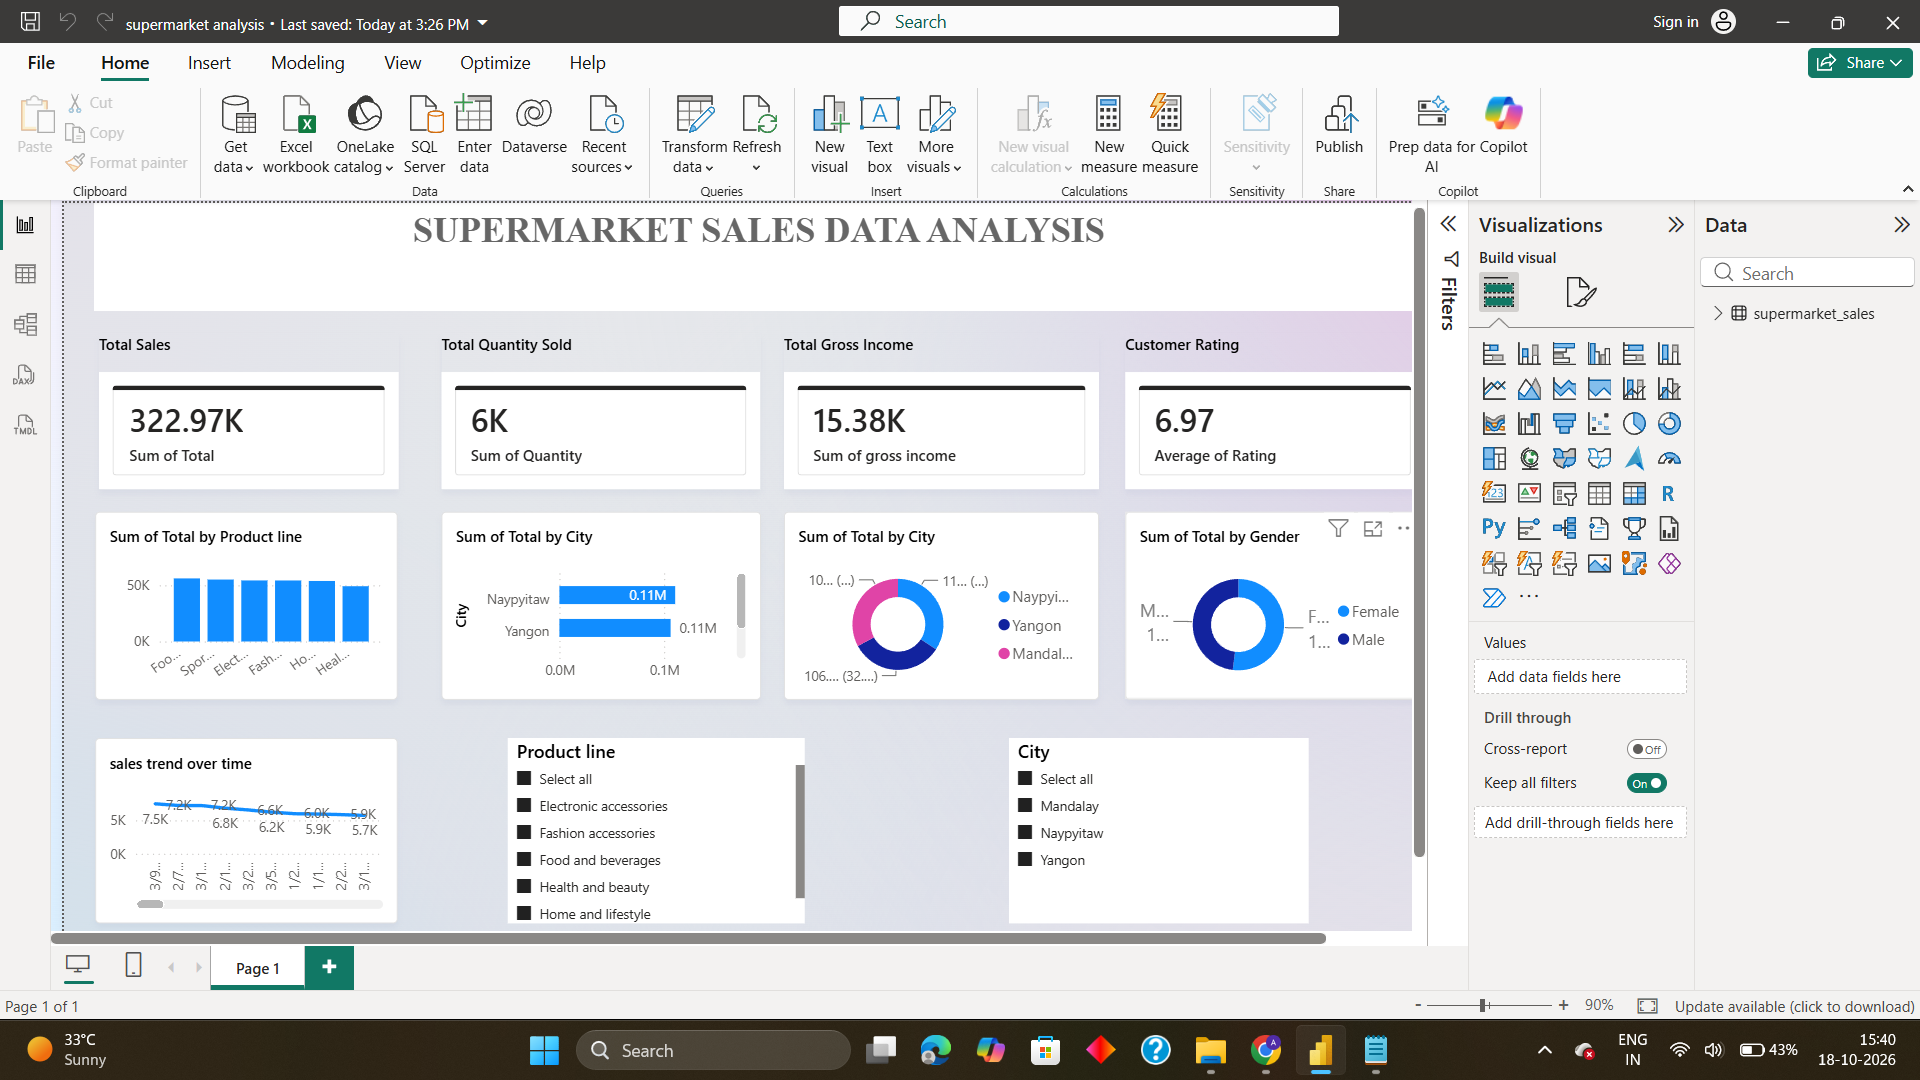

This screenshot's page, from the dashboard's own definition file:
{"tool":"powerbi","page":{"name":"Page 1","canvas":[1280,720],"ordinal":0},"visuals":[{"type":"cardVisual","title":"Total Sales","fields":{"Data":["Sum(supermarket_sales.Total)"]},"box":[30.6,116.2,266.6,138.2],"z":0},{"type":"cardVisual","title":"Total Quantity Sold","fields":{"Data":["Sum(supermarket_sales.Quantity)"]},"box":[335.1,116.2,283.7,138.2],"z":1000},{"type":"cardVisual","title":"Total Gross Income","fields":{"Data":["Sum(supermarket_sales.gross income)"]},"box":[639.5,116.2,280,138.2],"z":2000},{"type":"cardVisual","title":"Customer Rating","fields":{"Data":["Avg(supermarket_sales.Rating)"]},"box":[942.8,116.2,266.6,138.2],"z":3000},{"type":"clusteredColumnChart","fields":{"Y":["Sum(supermarket_sales.Total)"],"Category":["supermarket_sales.Product line"]},"box":[28.1,273.9,269,167.5],"z":4000},{"type":"clusteredBarChart","fields":{"Y":["Sum(supermarket_sales.Total)"],"Category":["supermarket_sales.City"]},"box":[335.1,273.9,283.7,167.5],"z":5000},{"type":"donutChart","fields":{"Category":["supermarket_sales.Gender"],"Y":["Sum(supermarket_sales.Total)"]},"box":[942.8,273.9,266.6,167.5],"z":6000},{"type":"donutChart","fields":{"Category":["supermarket_sales.City"],"Y":["Sum(supermarket_sales.Total)"]},"box":[639.5,273.9,280,167],"z":7000},{"type":"lineChart","title":"sales trend over time","fields":{"Y":["Sum(supermarket_sales.Total)"],"Category":["supermarket_sales.Date"]},"box":[28.1,475.7,269,165.1],"z":8000},{"type":"textbox","box":[27,0,1182,96],"z":9000},{"type":"slicer","fields":{"Values":["supermarket_sales.Product line"]},"box":[394.3,475.7,264.1,165.1],"z":11000},{"type":"slicer","fields":{"Values":["supermarket_sales.City"]},"box":[840,475.7,266.6,165.1],"z":12000}]}

Visuals, with their boxes on the page's 1280x720 design canvas (x1, y1, x2, y2). These are canvas units, not pixel positions in the 1920x1080 screenshot, which may show the page scaled, cropped or inside an application window:
"Total Sales" cardVisual: select_region(31, 116, 297, 254)
"Total Quantity Sold" cardVisual: select_region(335, 116, 619, 254)
"Total Gross Income" cardVisual: select_region(640, 116, 920, 254)
"Customer Rating" cardVisual: select_region(943, 116, 1209, 254)
clusteredColumnChart - Sum(supermarket_sales.Total) x supermarket_sales.Product line: select_region(28, 274, 297, 441)
clusteredBarChart - Sum(supermarket_sales.Total) x supermarket_sales.City: select_region(335, 274, 619, 441)
donutChart - supermarket_sales.Gender x Sum(supermarket_sales.Total): select_region(943, 274, 1209, 441)
donutChart - supermarket_sales.City x Sum(supermarket_sales.Total): select_region(640, 274, 920, 441)
"sales trend over time" lineChart: select_region(28, 476, 297, 641)
textbox: select_region(27, 0, 1209, 96)
slicer - supermarket_sales.Product line: select_region(394, 476, 658, 641)
slicer - supermarket_sales.City: select_region(840, 476, 1107, 641)
